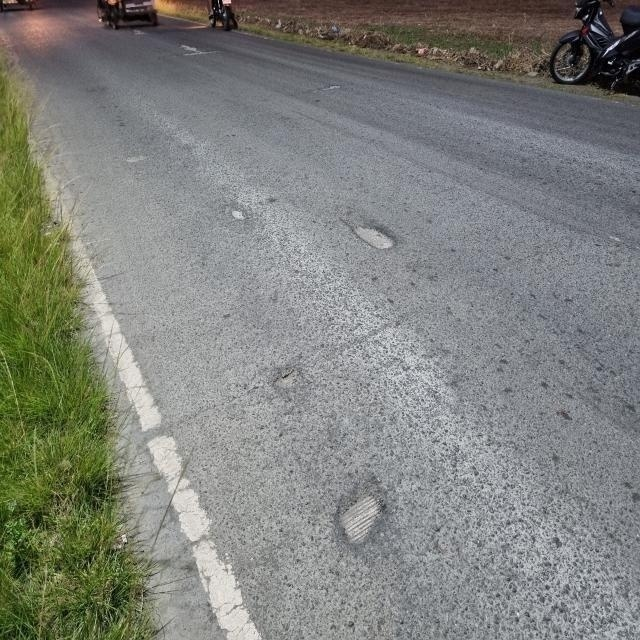pothole: (317, 470, 400, 562), (334, 202, 404, 264)
